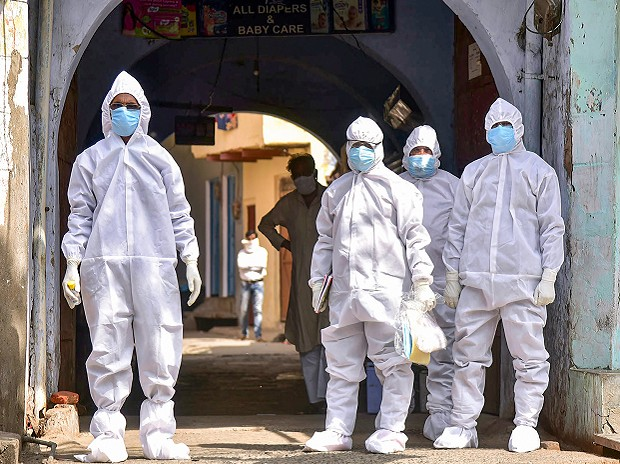Coverall: (61, 71, 201, 434), (310, 115, 436, 431), (444, 97, 564, 428), (399, 125, 465, 406)
Gloves: (532, 268, 559, 306), (62, 257, 82, 308), (186, 259, 202, 307), (442, 271, 461, 309), (414, 285, 438, 314)
with_mask: (109, 101, 142, 137), (485, 122, 517, 157), (408, 146, 436, 182), (348, 140, 374, 173), (292, 165, 316, 197)
